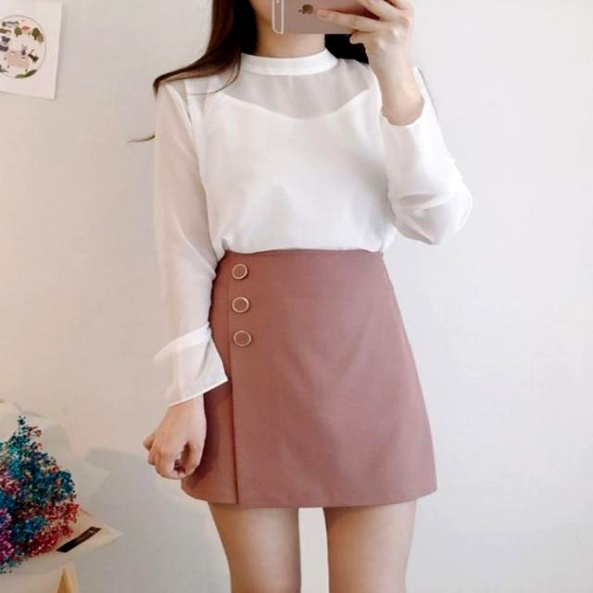Miniskirt: (178, 248, 441, 593)
